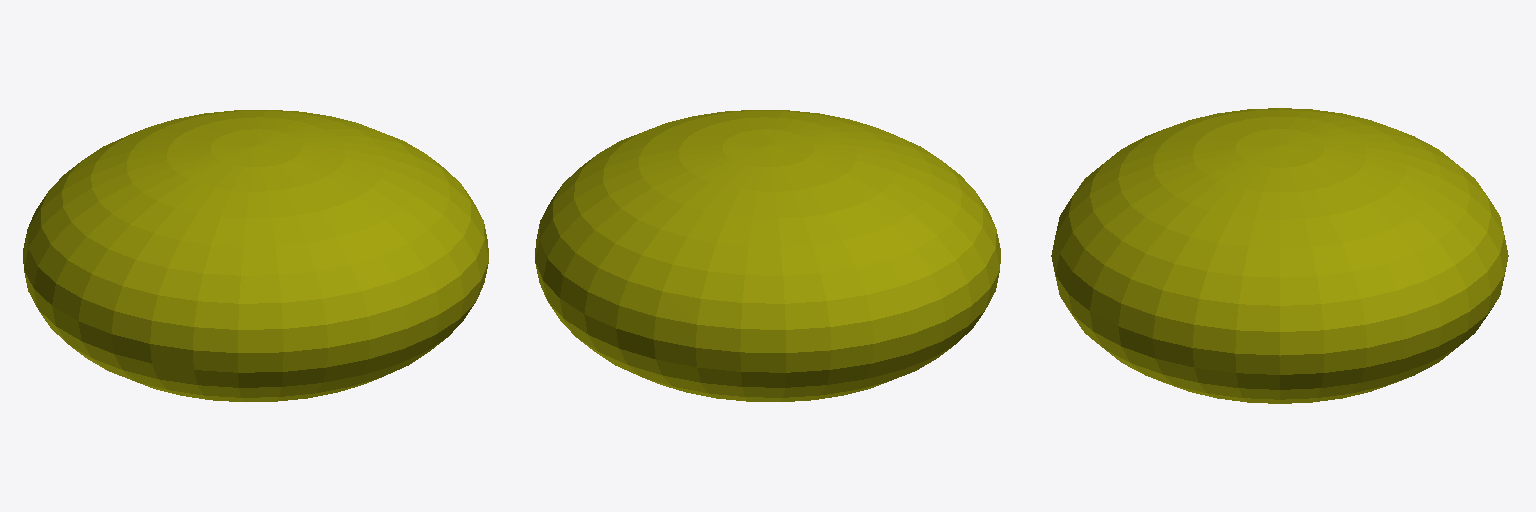
Rendered from moya_microwave_y.obj.
3 renders of one model, left to right at view 1: azimuth 30°, elevation 25°; view 2: azimuth 150°, elevation 25°; view 3: azimuth 270°, elevation 25°, orthographic.
Parts seen in each view (by area): view 1: Sphere_Sphere.005_Sphere_Sphere.009; view 2: Sphere_Sphere.005_Sphere_Sphere.009; view 3: Sphere_Sphere.005_Sphere_Sphere.009.
Part boxes in pixels (x1,y1,x2,y2): Sphere_Sphere.005_Sphere_Sphere.009: (23, 110, 488, 401); Sphere_Sphere.005_Sphere_Sphere.009: (535, 110, 1000, 401); Sphere_Sphere.005_Sphere_Sphere.009: (1051, 108, 1508, 403).
Size of the model in its own units: 0.4594 by 0.2363 by 0.4463.